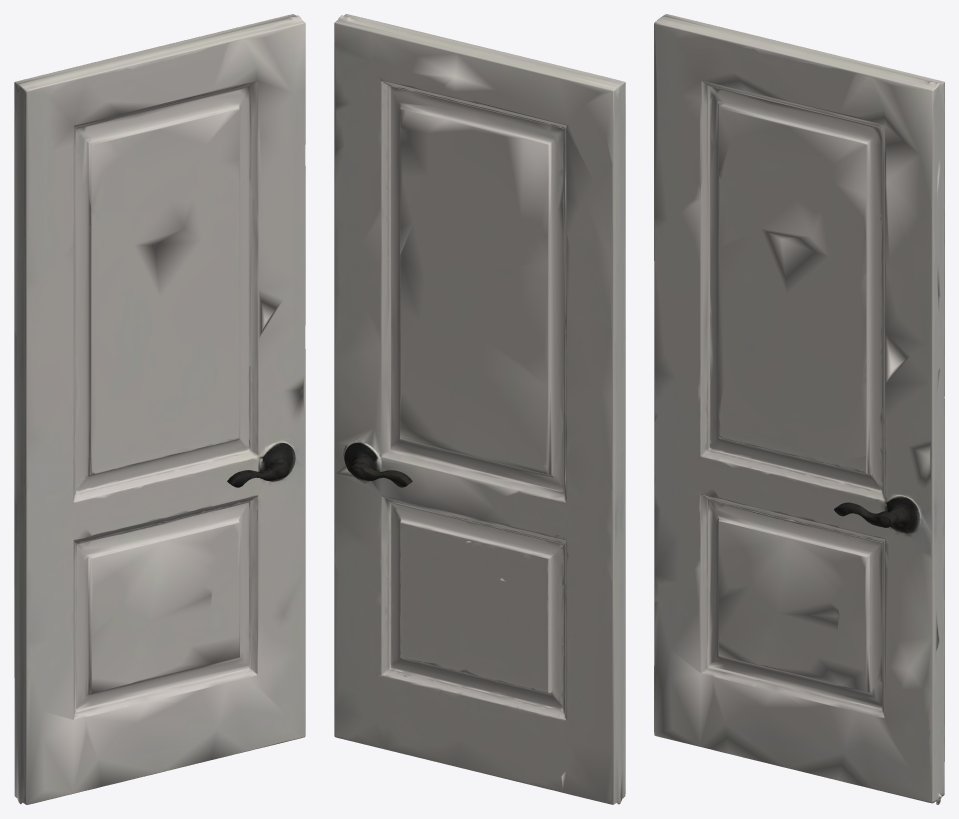
3 renders of one model, left to right at view 1: azimuth 30°, elevation 25°; view 2: azimuth 150°, elevation 25°; view 3: azimuth 330°, elevation 25°, orthographic.
Parts seen in each view (by area): view 1: material; view 2: material; view 3: material.
Part boxes in pixels (box(x1,y1,x2,y2)): material: box(14, 14, 305, 804); material: box(334, 14, 625, 804); material: box(654, 14, 944, 804).
Size of the model in its own units: 0.4552 by 1.11 by 0.1124.
1 material, 1 textured.
